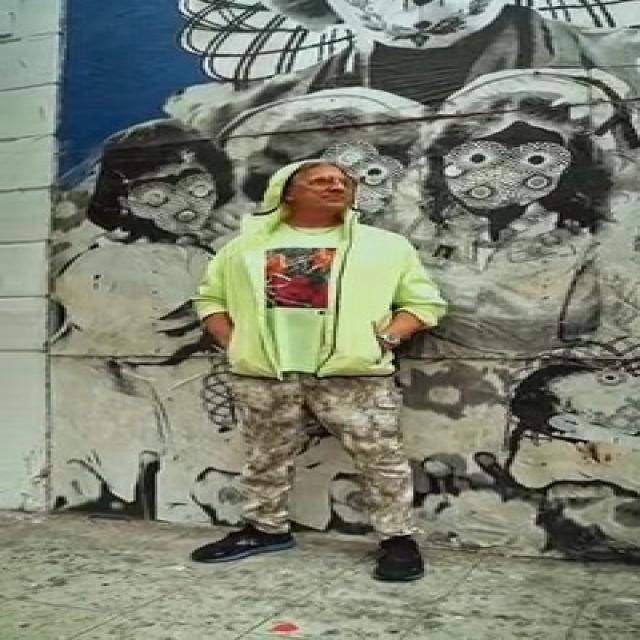Jacket_Wearer: (173, 219, 445, 377)
Person: (158, 164, 455, 567)
